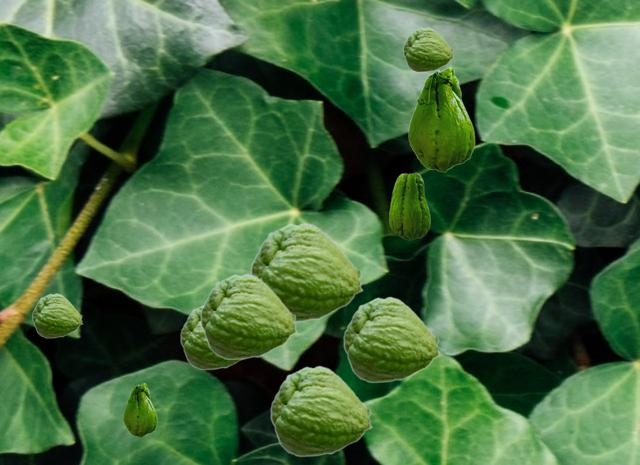sayote: (250, 222, 363, 322), (270, 365, 372, 456), (343, 296, 440, 382), (200, 273, 297, 359), (408, 67, 474, 171), (180, 305, 242, 369), (389, 172, 429, 239), (32, 293, 82, 337), (403, 27, 453, 71), (123, 383, 156, 436)
